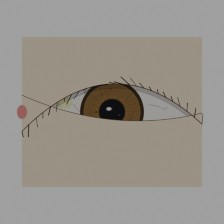pinguecula_lesion: (46, 89, 81, 117)
